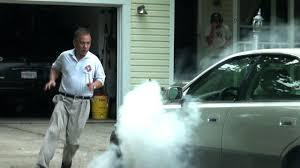smoke: (87, 72, 208, 168)
